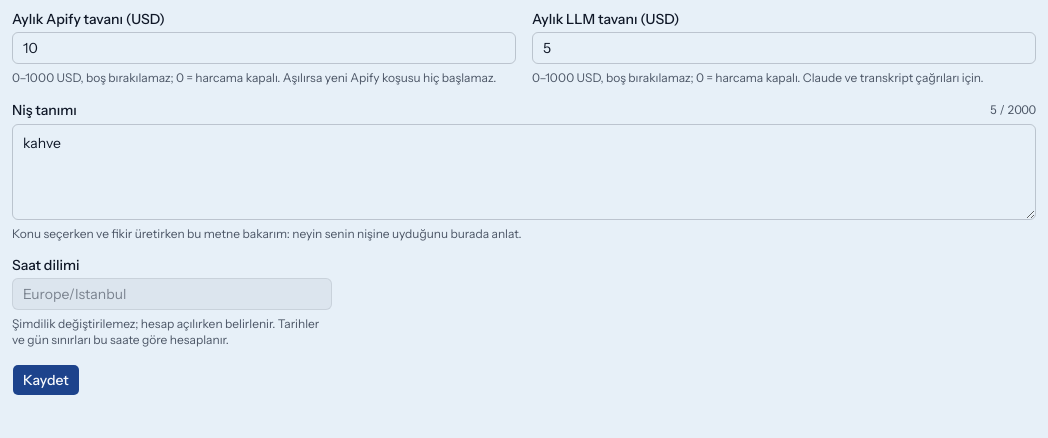
Test: WorkspaceForm: tavan zorunlu › aralık dışı değer (1001) kaydetmez
The image size is (1048, 438).
Replace the text in the field labelled "Aylık LLM tavanı (USD)" with "1001": [784, 48] box [532,32,1036,64]
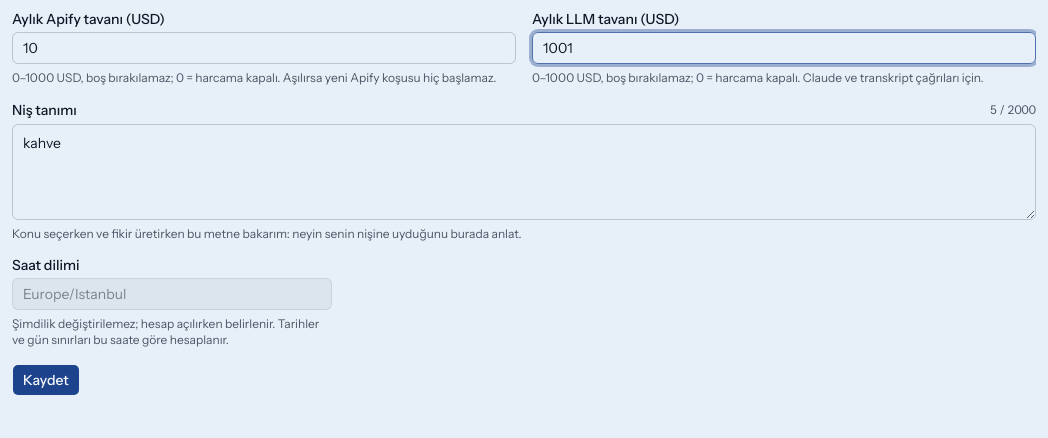
Click the button "Kaydet": [46, 380] box [12,364,80,396]
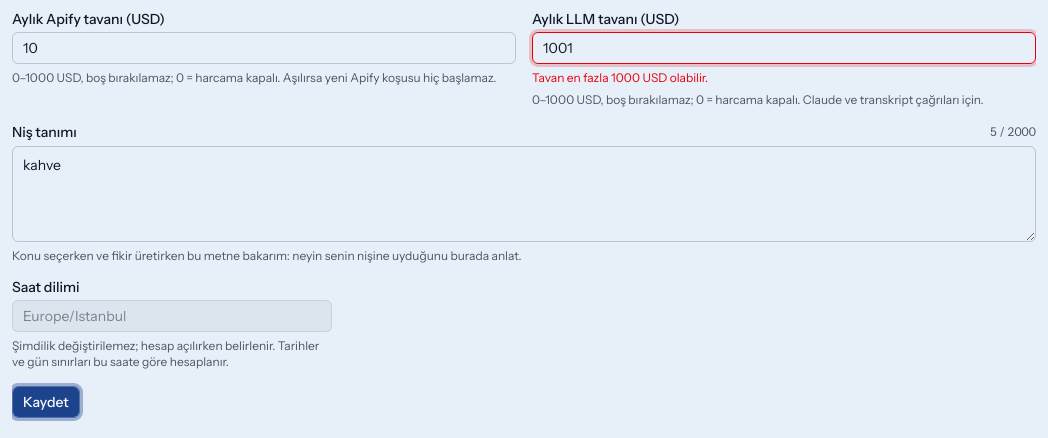
Expected: the text "Tavan en fazla 1000 USD olabilir." is shown, [532,70,708,85]
